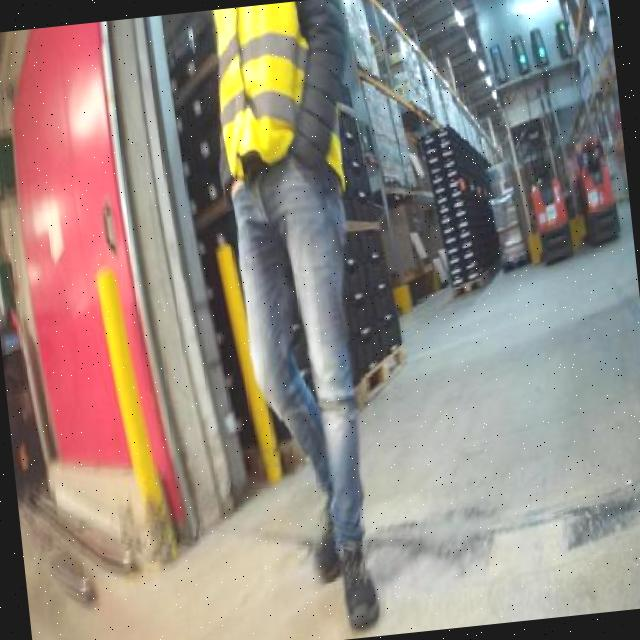pallet: (353, 332, 414, 406), (445, 264, 493, 311)
